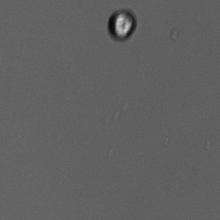Living Cell: (106, 7, 138, 44)
